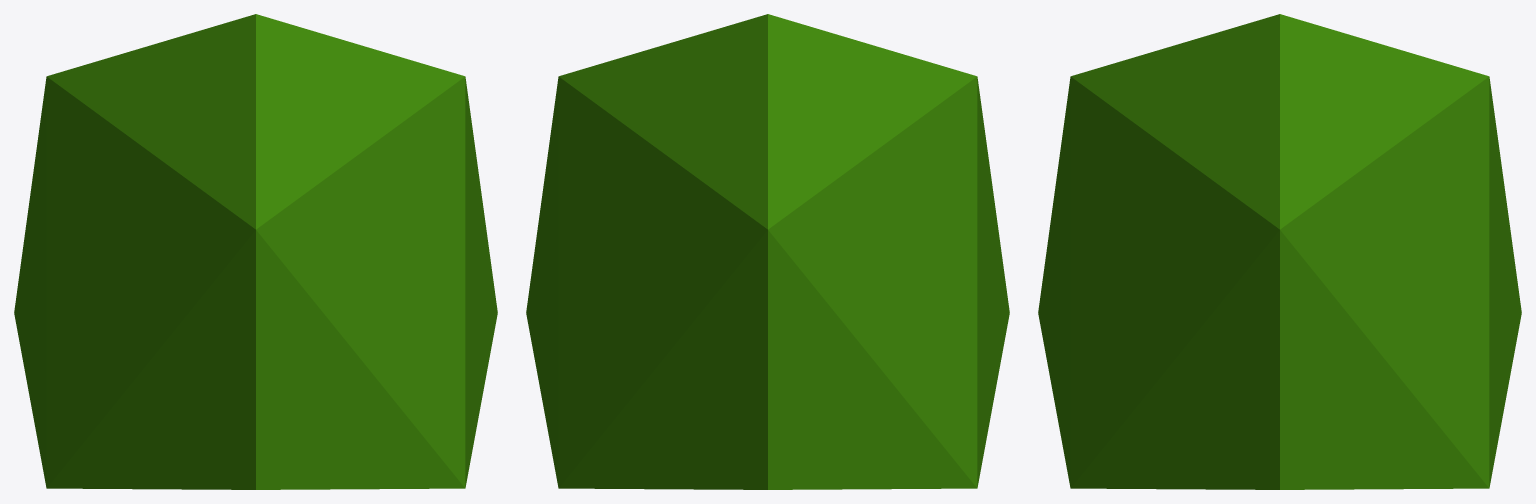
Rendered from Bush_d_03.fbx.
3 renders of one model, left to right at view 1: azimuth 30°, elevation 25°; view 2: azimuth 150°, elevation 25°; view 3: azimuth 270°, elevation 25°, orthographic.
Visible parts, largest first — view 1: Bush_d_03_LOD0; view 2: Bush_d_03_LOD0; view 3: Bush_d_03_LOD0.
Part boxes in pixels (bbox=[...]): Bush_d_03_LOD0: bbox=[14, 14, 497, 489]; Bush_d_03_LOD0: bbox=[526, 14, 1009, 489]; Bush_d_03_LOD0: bbox=[1038, 14, 1521, 489].
Size of what is drawn, in the model's own units: 14.14 by 12.68 by 13.12.
